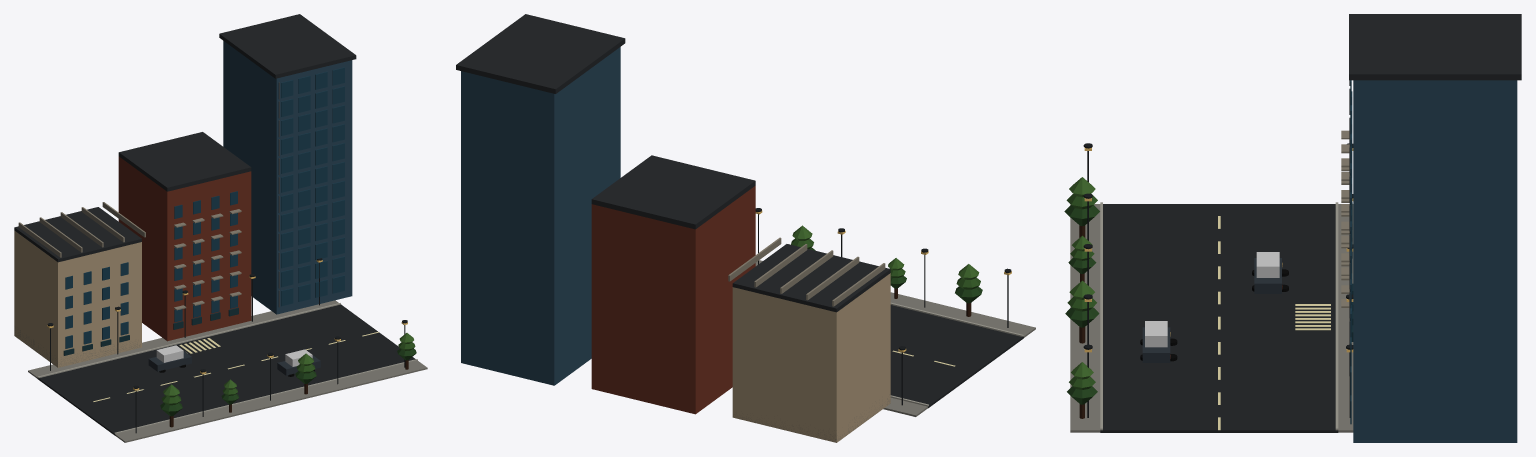
File: urban_block_01.obj
3 views of the same model, side by side, from view 1: azimuth 30°, elevation 25°; view 2: azimuth 150°, elevation 25°; view 3: azimuth 270°, elevation 25° (orthographic). The views are drawn at different scales.
Parts seen in each view (by area): view 1: urban_block_01; view 2: urban_block_01; view 3: urban_block_01.
Boxes of the visible parts, bbox=[...] form: urban_block_01: bbox=[14, 14, 427, 442]; urban_block_01: bbox=[456, 14, 1035, 442]; urban_block_01: bbox=[1064, 14, 1521, 442].
Size of the model in its own units: 38.3 by 27.63 by 30.71.
